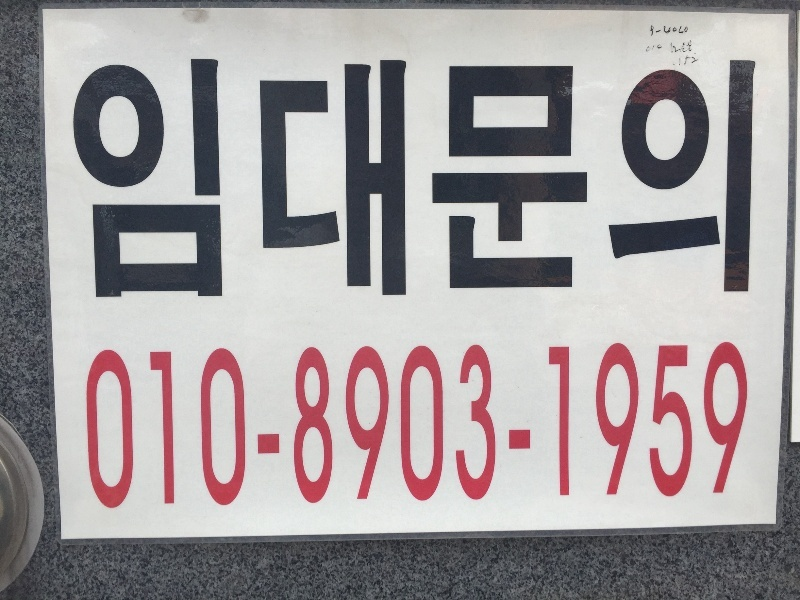text: (81, 57, 96, 302), (97, 57, 112, 302), (113, 57, 128, 302), (129, 57, 144, 302), (145, 57, 160, 302), (161, 57, 176, 302), (177, 57, 192, 302), (193, 57, 208, 302), (209, 57, 224, 302), (225, 57, 240, 302), (241, 57, 256, 302), (257, 57, 272, 302), (273, 57, 288, 302), (289, 57, 304, 302), (305, 57, 320, 302), (321, 57, 336, 302), (337, 57, 352, 302), (353, 57, 368, 302), (369, 57, 384, 302), (385, 57, 400, 302), (401, 57, 416, 302), (417, 57, 432, 302), (433, 57, 448, 302), (449, 57, 464, 302), (465, 57, 480, 302), (481, 57, 496, 302), (497, 57, 512, 302), (513, 57, 528, 302), (529, 57, 544, 302), (545, 57, 560, 302), (561, 57, 576, 302), (577, 57, 592, 302), (593, 57, 608, 302), (609, 57, 624, 302), (625, 57, 640, 302), (641, 57, 656, 302), (657, 57, 672, 302), (673, 57, 688, 302), (689, 57, 704, 302), (705, 57, 720, 302), (721, 57, 736, 302), (737, 57, 752, 302), (69, 57, 80, 302), (97, 338, 112, 517), (113, 338, 128, 517), (129, 338, 144, 517), (145, 338, 160, 517), (161, 338, 176, 517), (177, 338, 192, 517), (193, 338, 208, 517), (209, 338, 224, 517), (225, 338, 240, 517), (241, 338, 256, 517), (257, 338, 272, 517), (273, 338, 288, 517), (289, 338, 304, 517), (305, 338, 320, 517), (321, 338, 336, 517), (337, 338, 352, 517), (353, 338, 368, 517), (369, 338, 384, 517), (385, 338, 400, 517), (401, 338, 416, 517), (417, 338, 432, 517), (433, 338, 448, 517), (449, 338, 464, 517), (465, 338, 480, 517), (481, 338, 496, 517), (497, 338, 512, 517), (513, 338, 528, 517), (529, 338, 544, 517), (545, 338, 560, 517), (561, 338, 576, 517), (577, 338, 592, 517), (593, 338, 608, 517), (609, 338, 624, 517), (625, 338, 640, 517), (641, 338, 656, 517), (657, 338, 672, 517), (673, 338, 688, 517), (689, 338, 704, 517), (705, 338, 720, 517), (721, 338, 736, 517), (737, 338, 751, 517), (84, 338, 96, 517), (753, 57, 758, 302), (657, 40, 672, 55), (673, 40, 688, 55), (673, 54, 688, 68), (689, 54, 700, 68), (673, 25, 688, 35), (647, 40, 656, 55), (650, 24, 656, 38), (657, 24, 663, 38), (664, 25, 672, 35), (689, 40, 694, 55), (671, 54, 672, 68), (689, 25, 690, 35)
